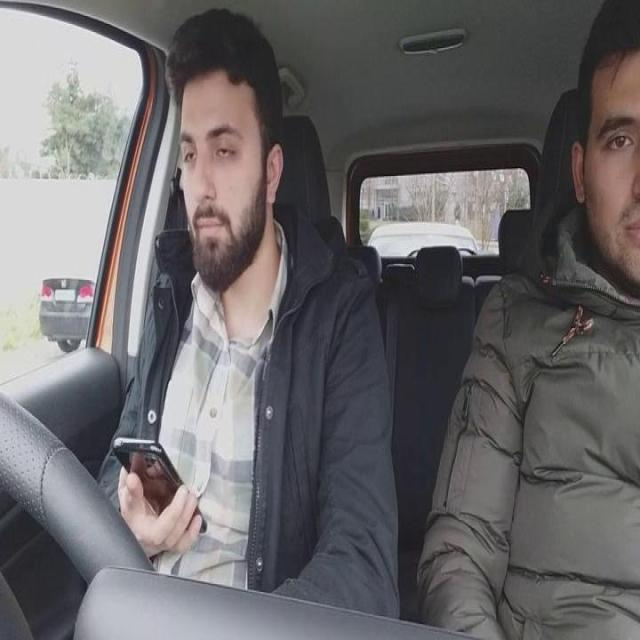phone: (110, 436, 208, 541)
